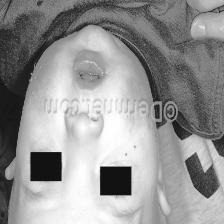Non-Cancerous Skin Condition: (113, 53, 150, 96), (27, 52, 59, 99)
